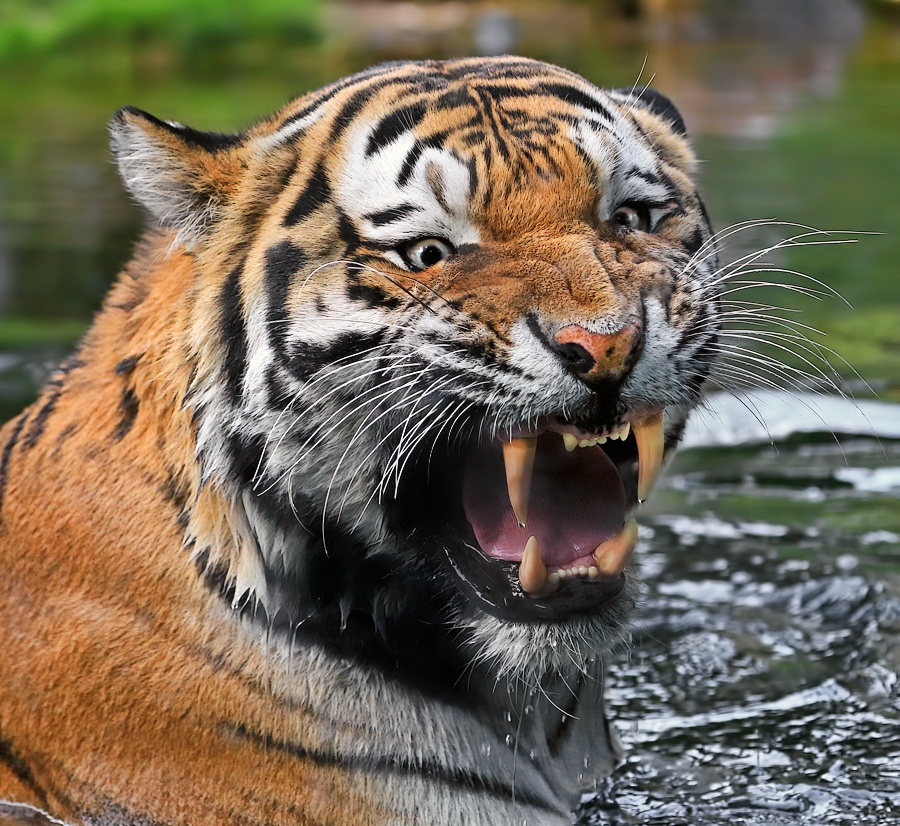tiger: (97, 47, 754, 801)
